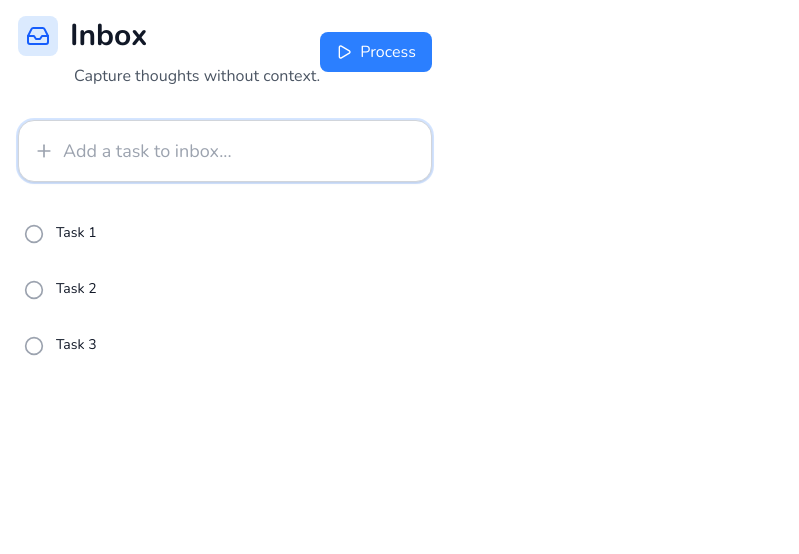
Test: InboxView Processing Mode › shows exhausted state when all tasks are processed
Step 1. Click the button "Process" → (376, 52), box [320,32,432,72]
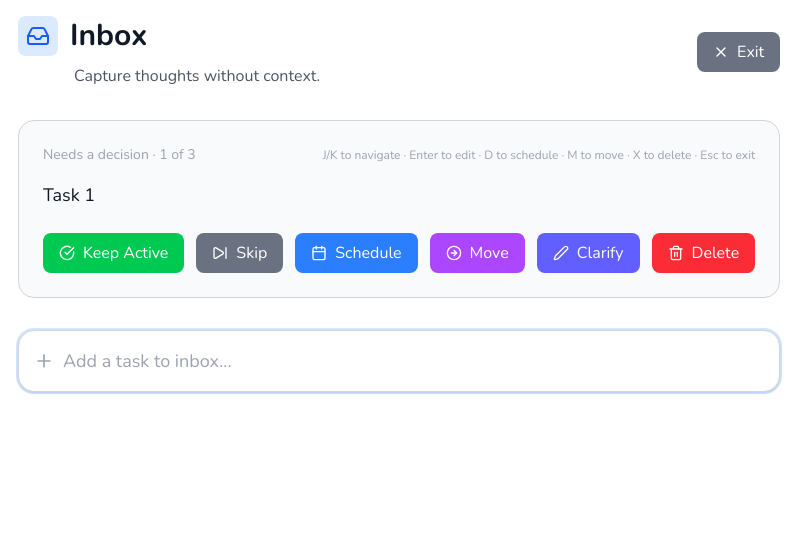
Step 2. Click the button "Skip" → (240, 253), box [196,233,283,273]
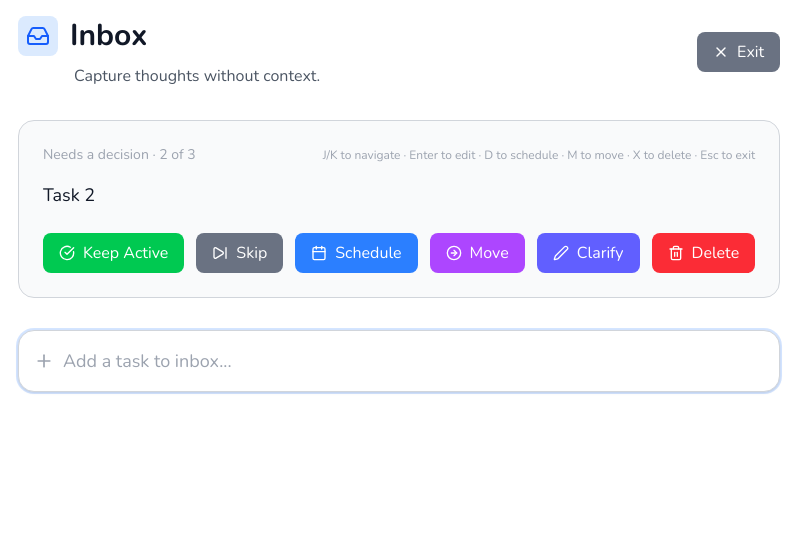
Step 3. Click the button "Skip" → (240, 253), box [196,233,283,273]
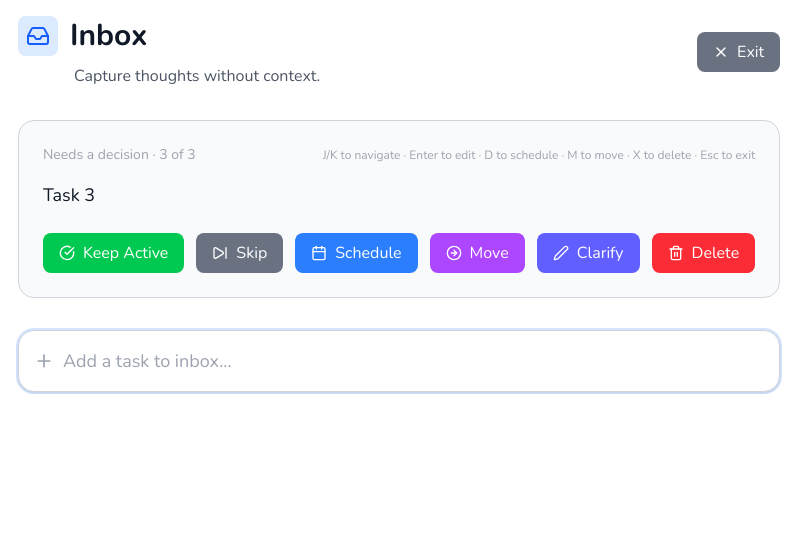
Step 4. Click the button "Skip" → (240, 253), box [196,233,283,273]
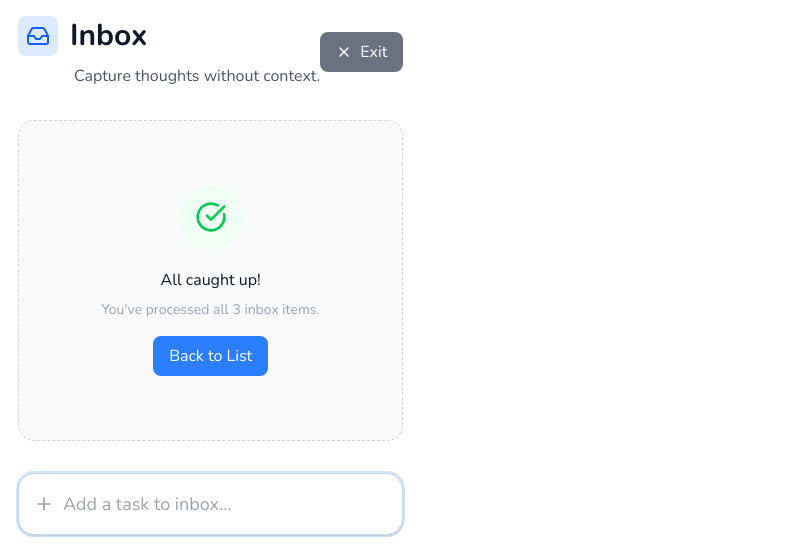
Now the text "All caught up!" is shown, box [160,269,261,291]
Now the text "You've processed all 3 inbox items." is shown, box [102,300,320,319]
